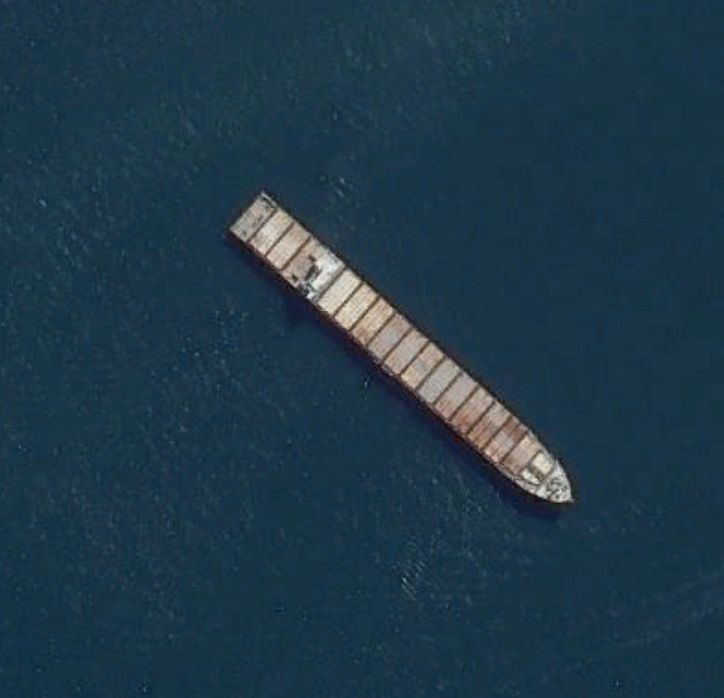boat: (225, 189, 575, 508)
